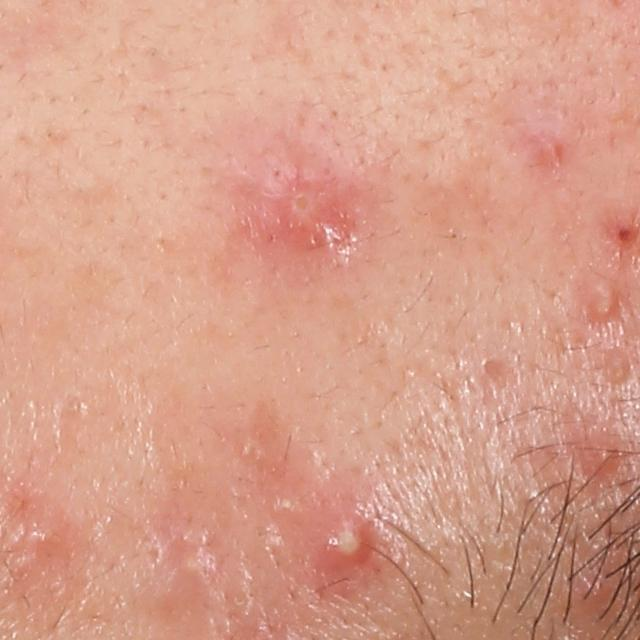comedo: (610, 354, 629, 385)
papule: (566, 560, 612, 618), (21, 517, 56, 559), (588, 440, 624, 478), (590, 278, 615, 322), (536, 133, 564, 169), (612, 219, 640, 251)
pustule: (283, 188, 347, 241)
